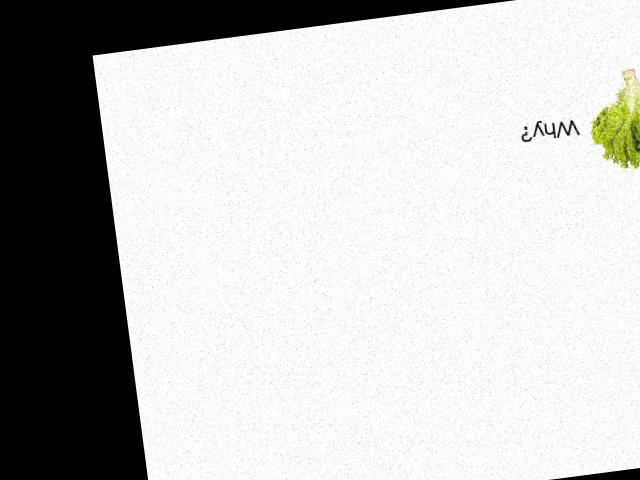lettuce: (526, 53, 640, 188)
